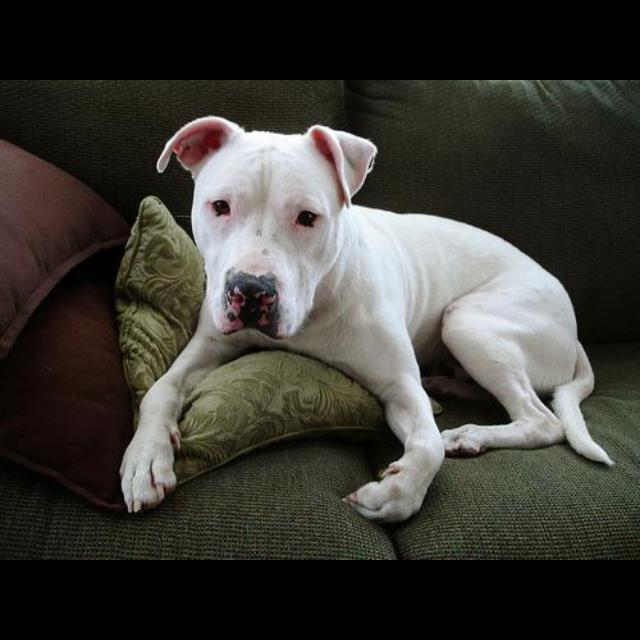amstaff: (118, 115, 617, 525)
